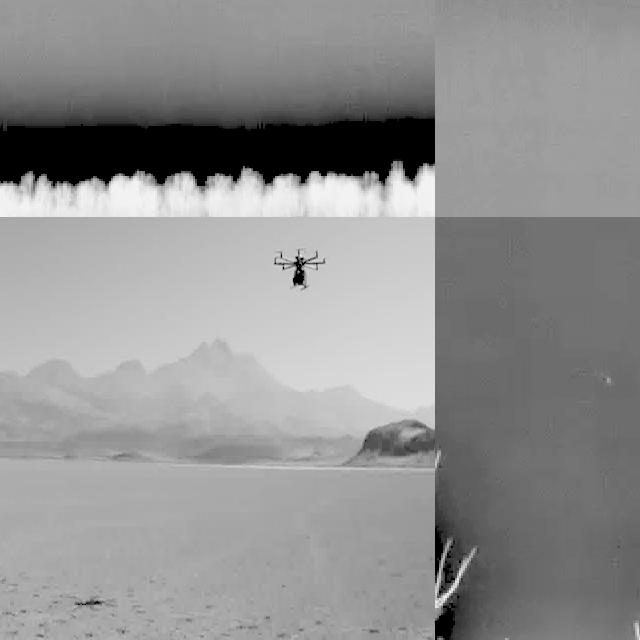0: (601, 369, 623, 399)
drone: (274, 246, 329, 291)
